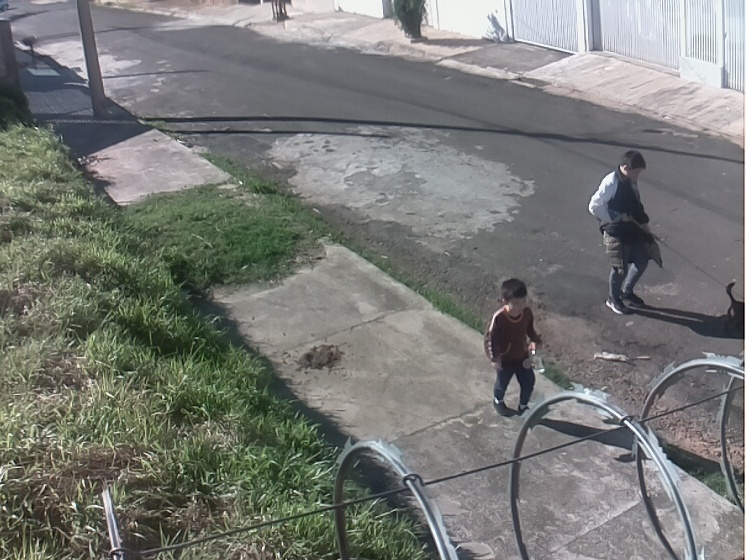person: (588, 149, 664, 315), (483, 278, 543, 421)
